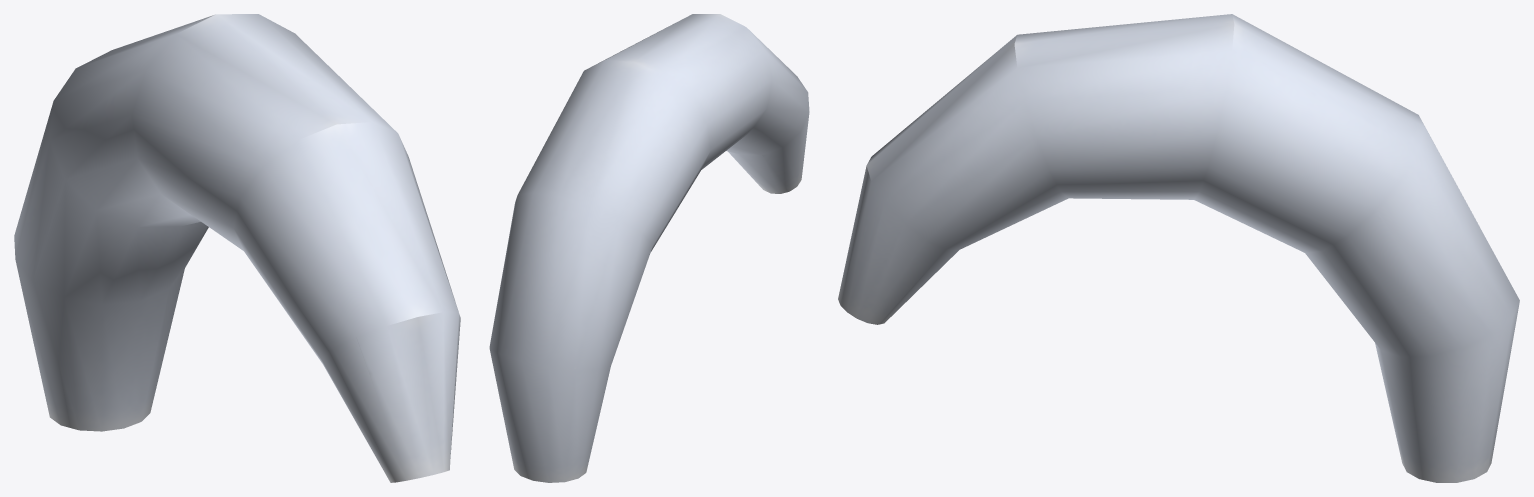
The model's file is plume.glb.
The picture shows the model from 3 angles, left to right: view 1: azimuth 30°, elevation 25°; view 2: azimuth 150°, elevation 25°; view 3: azimuth 270°, elevation 25°; orthographic projection. The views are drawn at different scales.
Visible parts, largest first — view 1: plume; view 2: plume; view 3: plume.
Boxes of the visible parts, <box> form: plume: <box>14,14,460,482</box>; plume: <box>489,14,809,482</box>; plume: <box>838,14,1519,482</box>.
Size of the model in its own units: 0.0921 by 0.2279 by 0.3209.
1 material, 1 textured.
